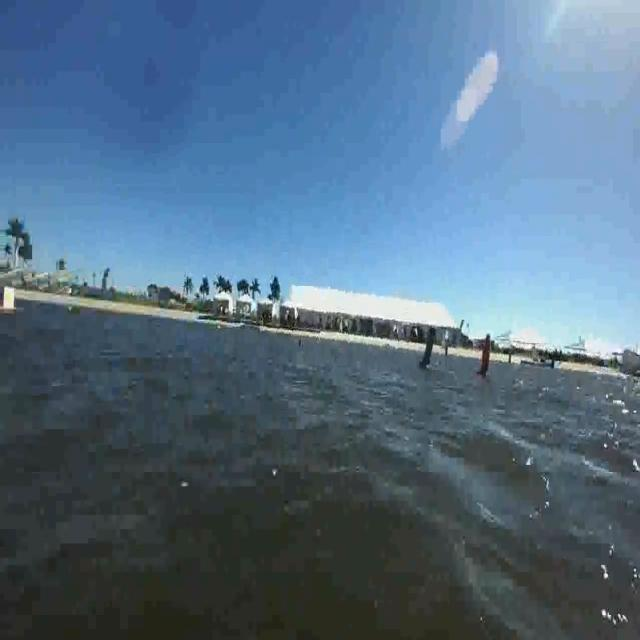green-column-buoy: (420, 324, 438, 369)
red-column-buoy: (479, 335, 494, 377)
